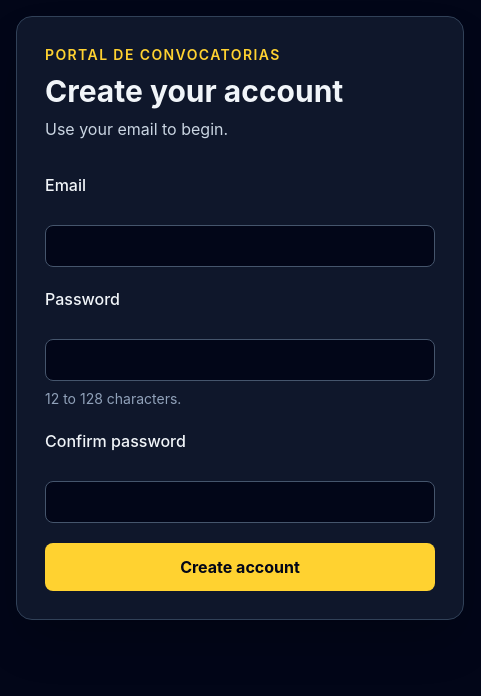
Test: /register › shows network state when the API cannot be reached
This screenshot has width=481, height=696.
Type " Person@Example.com " into the field labelled "Email" at (240,246), box x1=45 y1=225 x2=435 y2=267
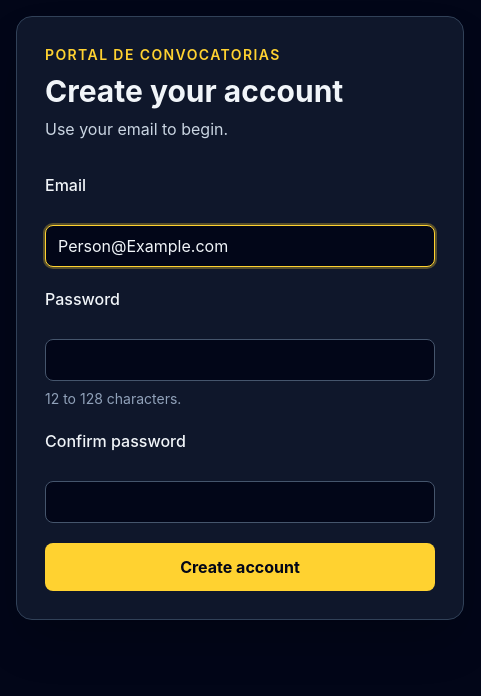
Type "correct horse battery" into the password field labelled "Password" at (240,360), box x1=45 y1=339 x2=435 y2=381
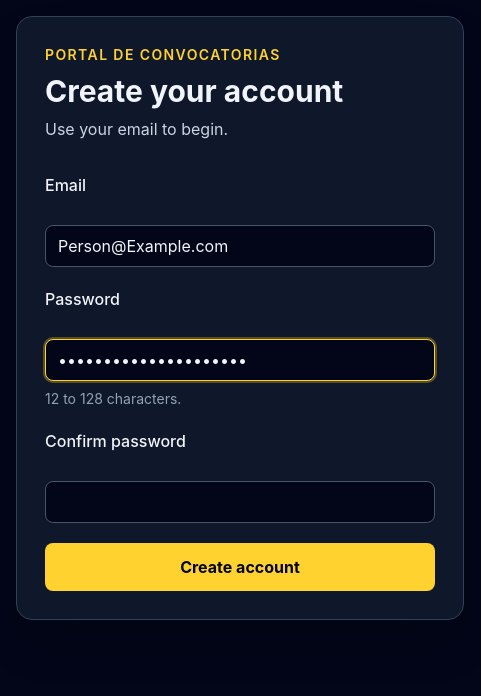
Type "correct horse battery" into the password field labelled "Confirm password" at (240,502), box x1=45 y1=481 x2=435 y2=523
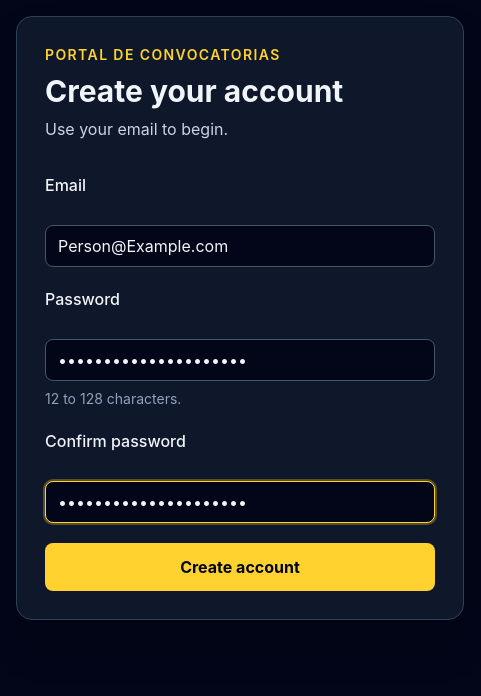
Click the button "Create account" at (240,567), box x1=45 y1=543 x2=435 y2=591
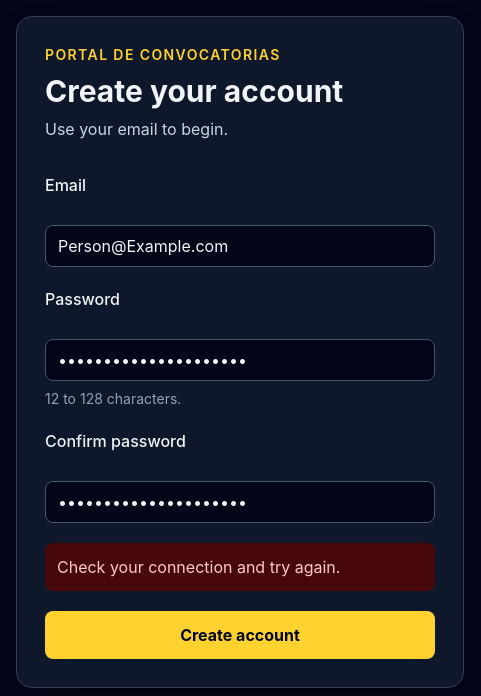
Now the message reads "Check your connection and try again.", box x1=57 y1=557 x2=340 y2=577
